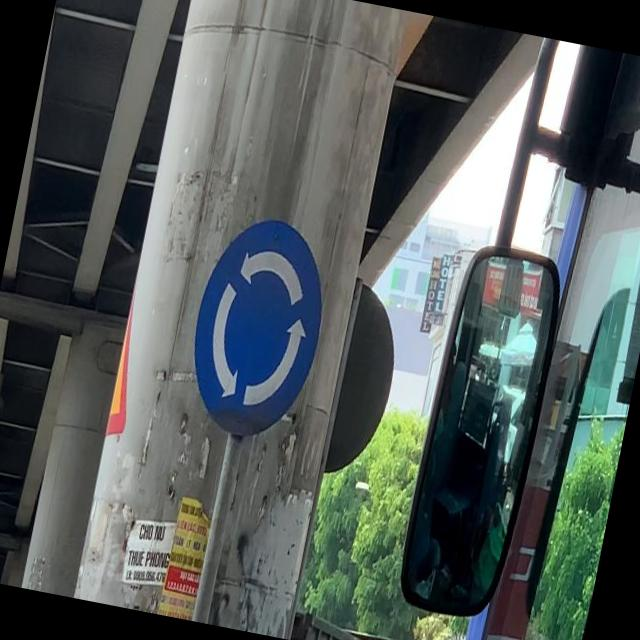R-303: (176, 211, 338, 448)
